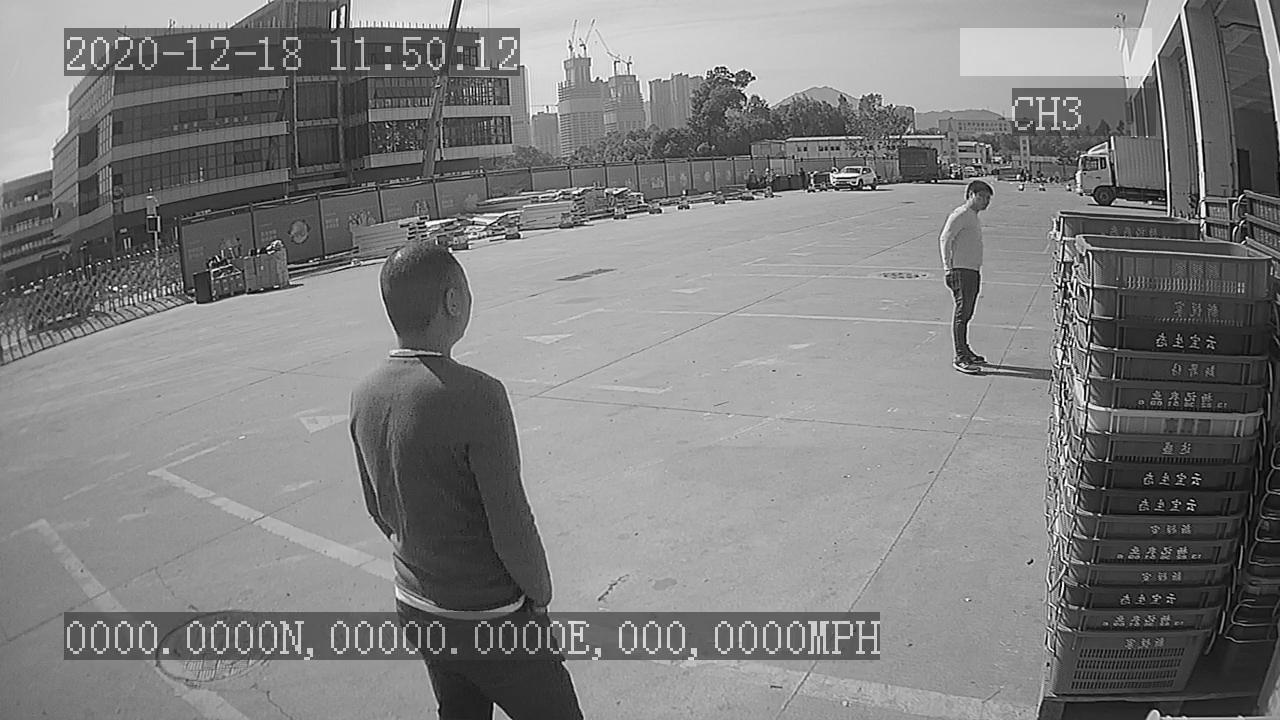person: (936, 176, 997, 379)
